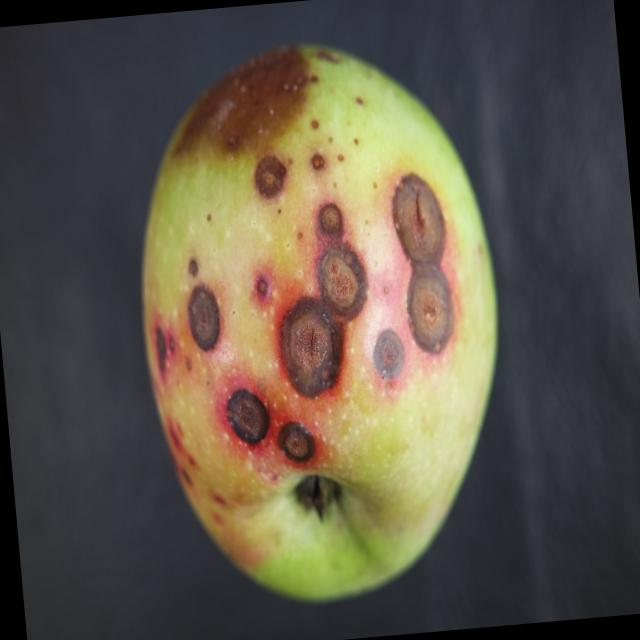rotten: (103, 6, 533, 631)
